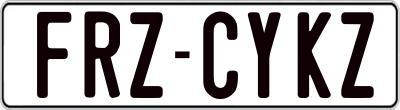C: (201, 12, 237, 104)
F: (36, 10, 70, 97)
K: (297, 11, 336, 103)
R: (84, 10, 126, 98)
Y: (247, 9, 285, 97)
Z: (127, 12, 166, 101), (339, 10, 377, 99)
